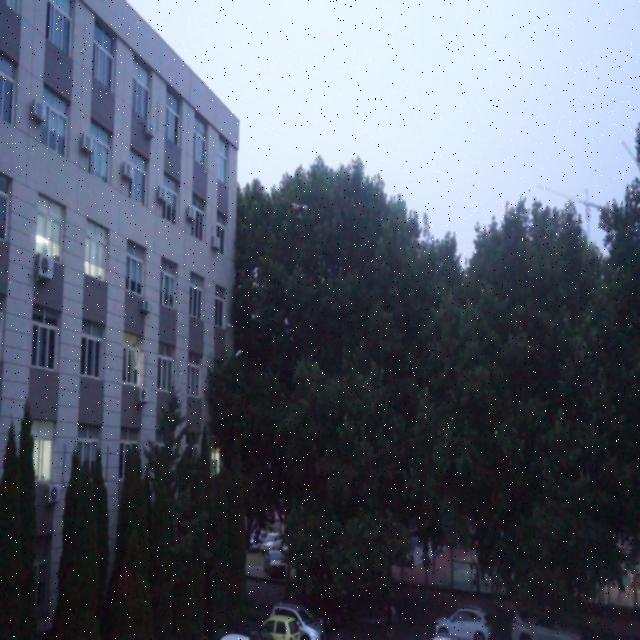UAV: (292, 203, 308, 218)
